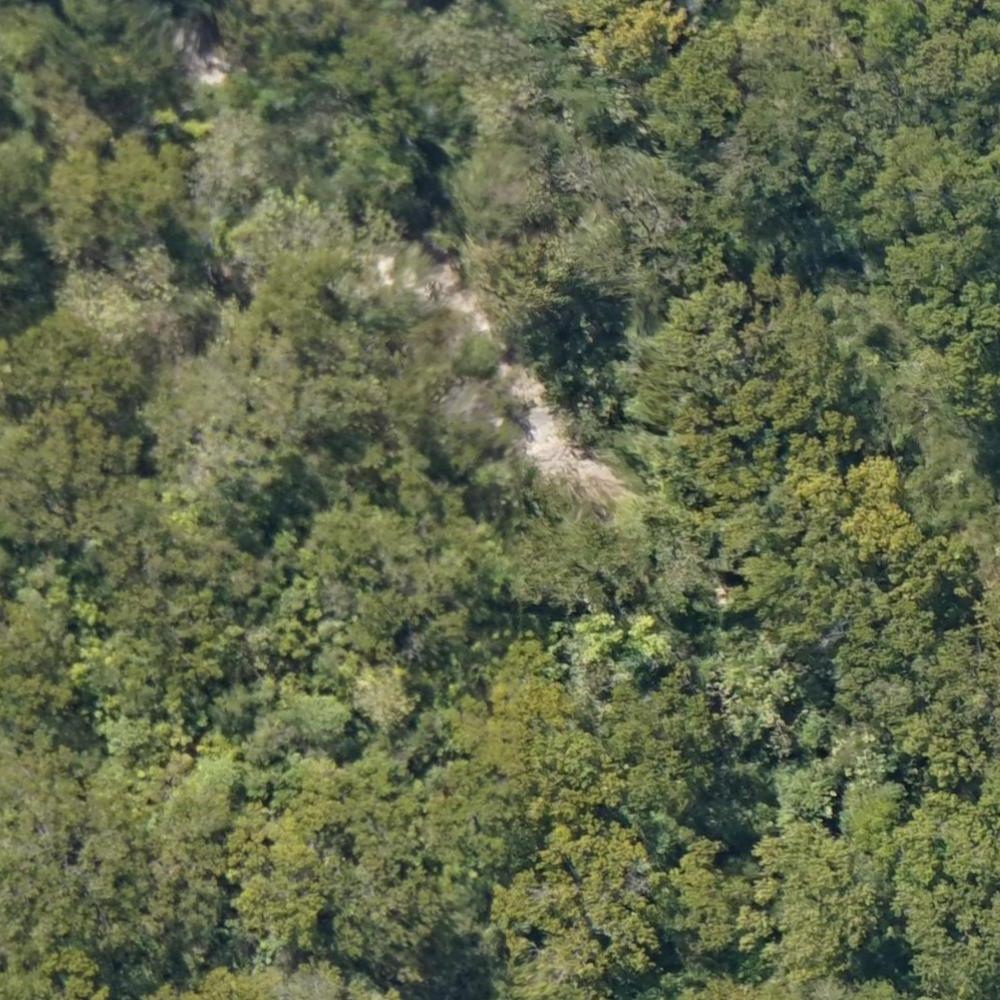tree: (661, 33, 743, 142), (245, 876, 329, 955), (108, 132, 185, 212), (169, 759, 239, 834), (848, 777, 914, 844), (348, 661, 412, 726), (314, 375, 377, 440), (658, 553, 720, 619), (854, 502, 920, 553), (132, 240, 188, 298), (449, 323, 505, 379), (775, 763, 831, 819), (794, 705, 849, 762), (357, 584, 410, 641), (573, 615, 626, 672), (289, 693, 345, 744), (559, 84, 609, 132), (849, 455, 902, 500), (688, 911, 734, 956), (911, 305, 953, 345), (433, 605, 470, 650)
